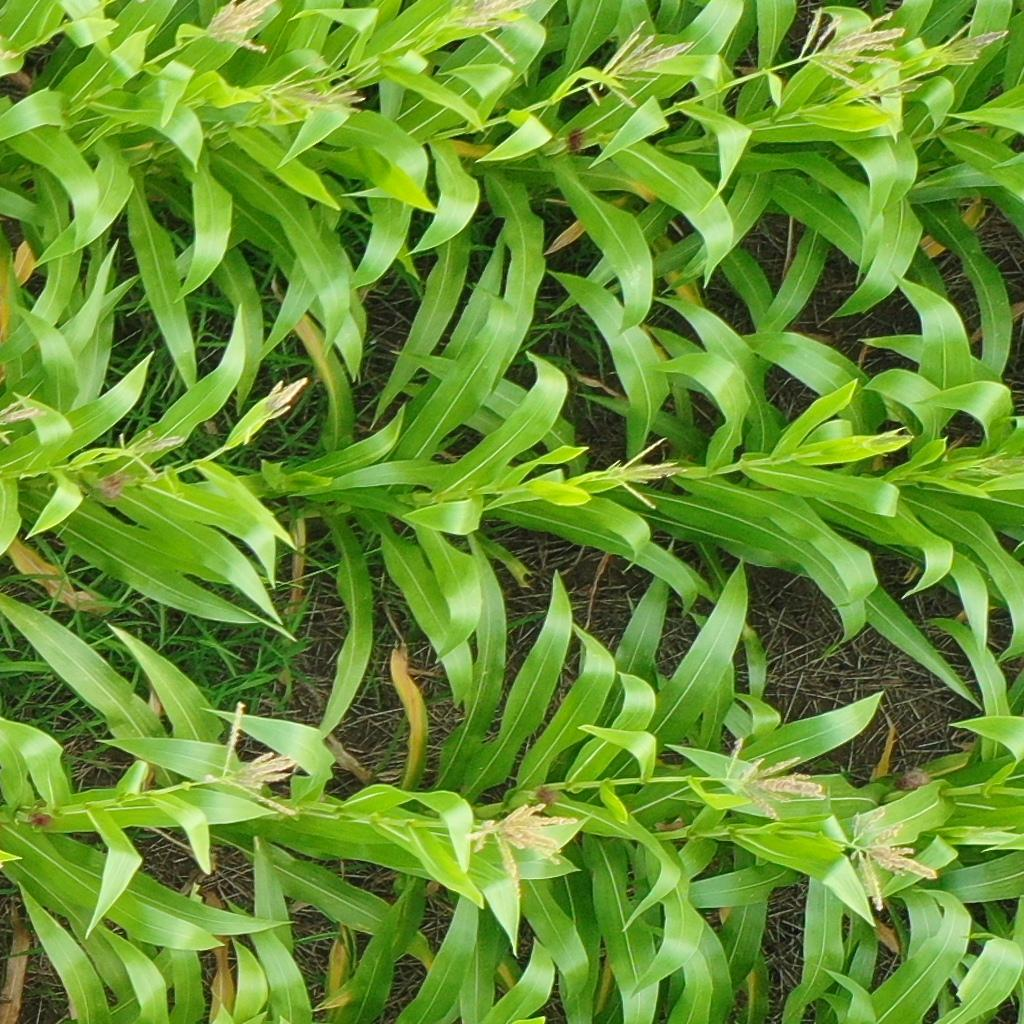Tassel: (212, 701, 306, 820), (843, 807, 939, 918), (462, 802, 578, 891), (584, 19, 697, 110), (720, 740, 830, 824), (797, 7, 904, 88), (600, 436, 689, 511), (444, 1, 538, 67), (854, 61, 941, 124), (204, 1, 279, 56), (257, 59, 318, 125), (115, 431, 185, 481), (938, 22, 1011, 66), (307, 80, 373, 118), (264, 375, 309, 426), (860, 425, 914, 460), (969, 451, 1024, 480), (1, 395, 46, 427), (77, 1, 118, 24)
